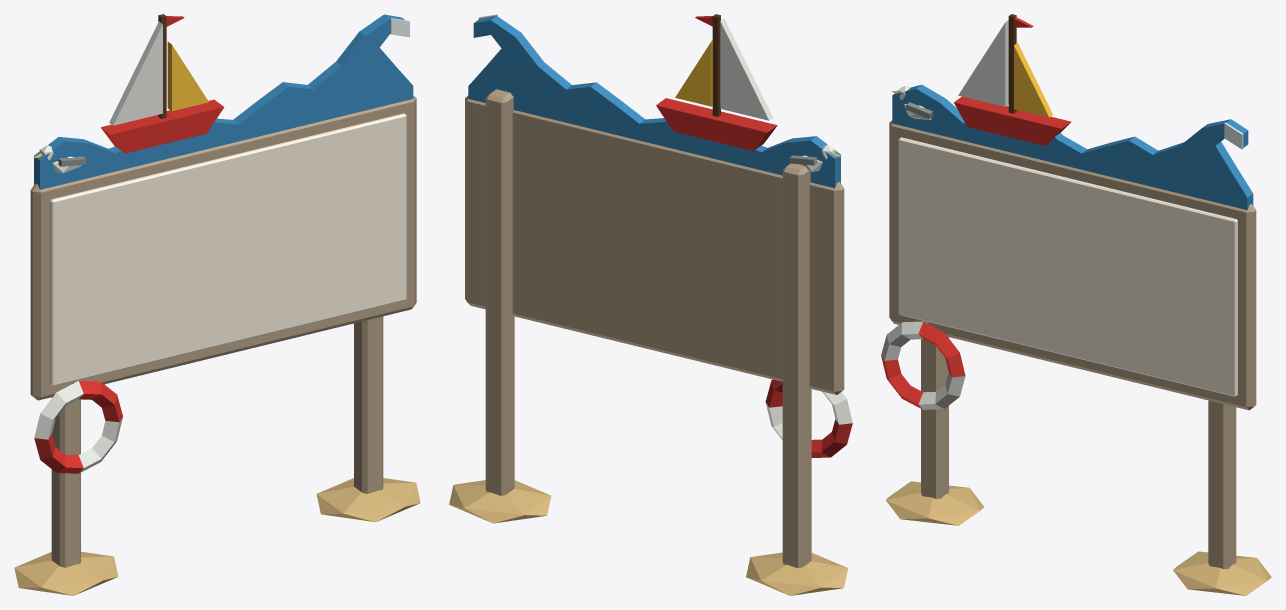
File: sm_env_gate_sign_coast.glb
3 views of the same model, side by side, from view 1: azimuth 30°, elevation 25°; view 2: azimuth 150°, elevation 25°; view 3: azimuth 330°, elevation 25° (orthographic). The views are drawn at different scales.
Parts seen in each view (by area): view 1: Board, Sign; view 2: Sign; view 3: Board, Sign.
Part boxes in pixels (bbox=[...]): Board: bbox=[50, 113, 406, 386]; Sign: bbox=[14, 14, 420, 595]; Sign: bbox=[449, 14, 852, 595]; Board: bbox=[898, 137, 1237, 396]; Sign: bbox=[881, 14, 1271, 595].
Size of the model in its own units: 2.24 by 2.93 by 0.4253.
